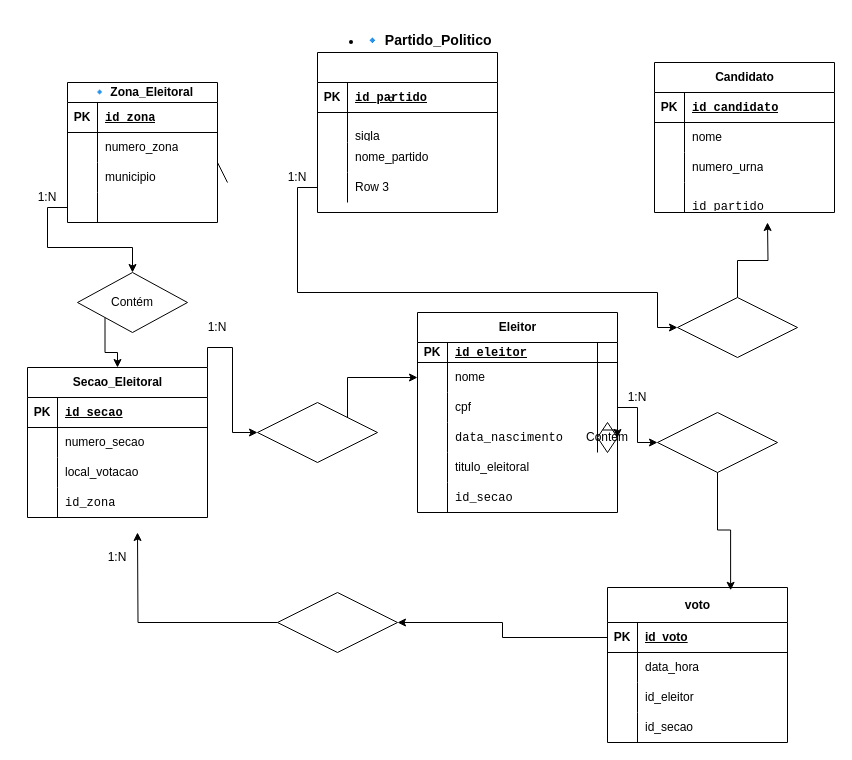
Image size: 852x760. Some labels were removed from this diagram. The centre of each missing label's shape, as x and y in pixels:
Aloca: point 317,432
Possui: point 737,327
Realiza: point 717,442
Registrado em: point 337,622
